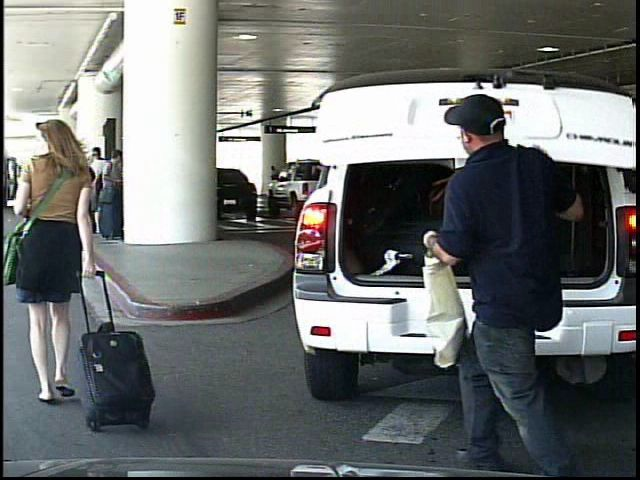person: (411, 88, 593, 475), (3, 119, 117, 431), (268, 163, 282, 199)
